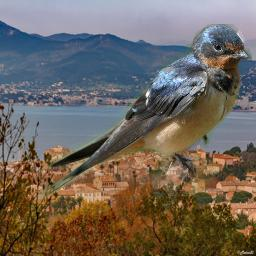Swallow: (37, 24, 252, 205)
